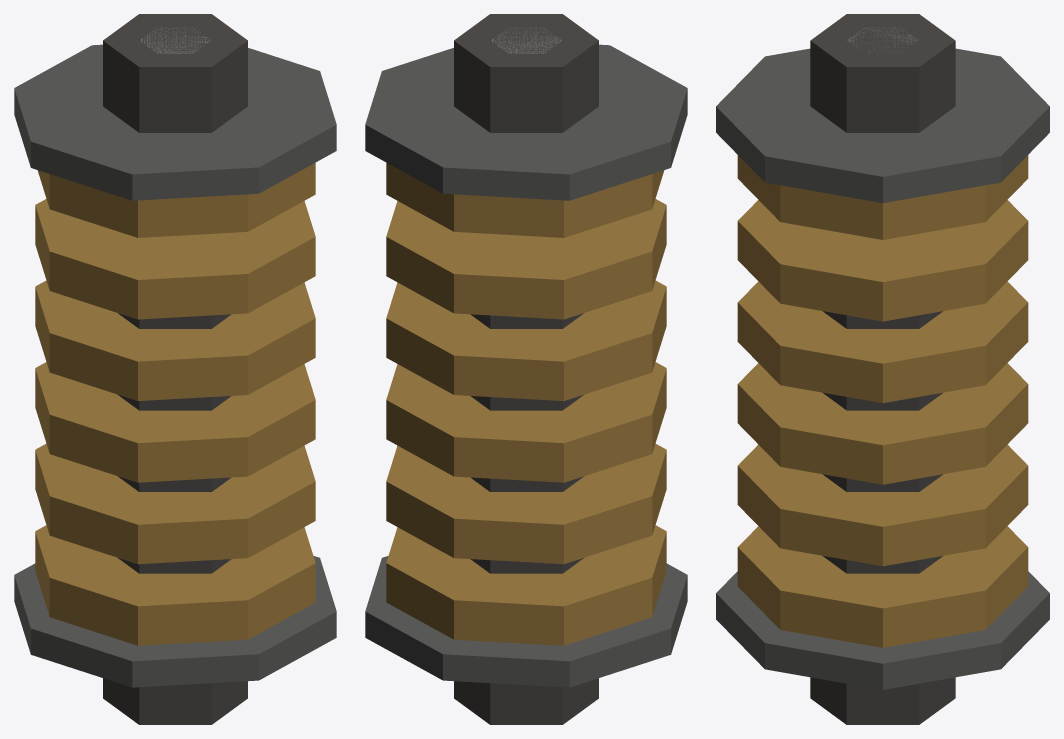
Rendered from coilover.glb.
3 renders of one model, left to right at view 1: azimuth 30°, elevation 25°; view 2: azimuth 150°, elevation 25°; view 3: azimuth 270°, elevation 25°, orthographic.
Visible parts, largest first — view 1: coilover; view 2: coilover; view 3: coilover.
Part boxes in pixels (x1=…): coilover: x1=14, y1=14, x2=336, y2=724; coilover: x1=365, y1=14, x2=687, y2=724; coilover: x1=716, y1=14, x2=1049, y2=724.
Bounding box in the file's own units: 0.46 × 1 × 0.46.
